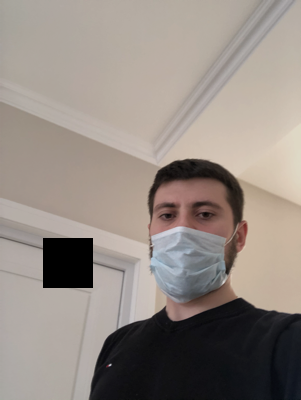with_mask: (149, 194, 232, 302)
